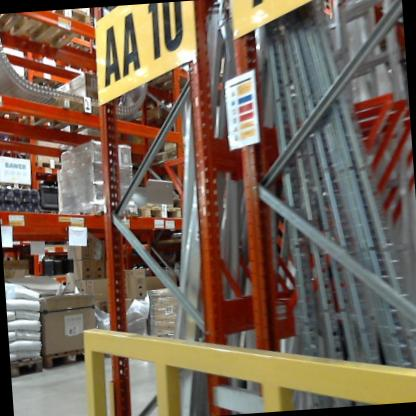pallet: (33, 87, 128, 149), (5, 9, 93, 53), (145, 64, 216, 98), (139, 131, 195, 174), (62, 200, 144, 229), (138, 195, 192, 232), (41, 343, 97, 374), (0, 14, 30, 44)
